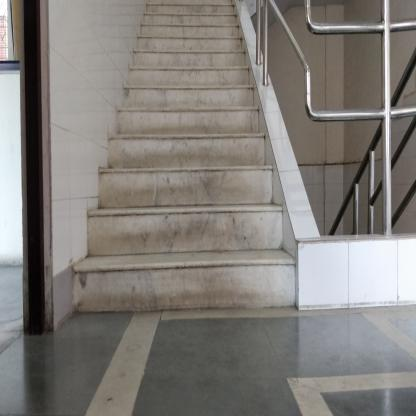stairs: (137, 49, 246, 316)
